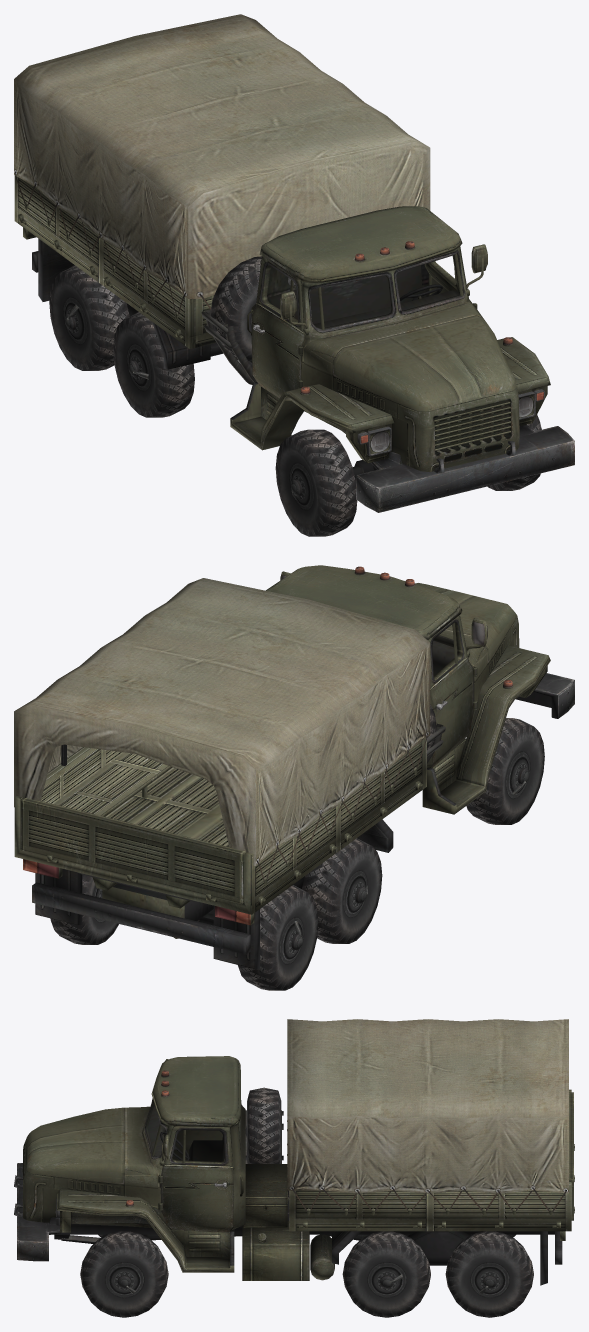
The model's file is ural_4320.glb.
3 views of the same model, one above another, from view 1: azimuth 30°, elevation 25°; view 2: azimuth 150°, elevation 25°; view 3: azimuth 270°, elevation 25° (orthographic). The views are drawn at different scales.
Visible parts, largest first — view 1: ural4320_0; view 2: ural4320_0; view 3: ural4320_0.
Part boxes in pixels (x1,y1,x2,y2): ural4320_0: [14, 14, 574, 536]; ural4320_0: [14, 565, 574, 990]; ural4320_0: [14, 1019, 574, 1317].
Size of the model in its own units: 3.06 by 3.27 by 7.57.
1 material, 1 textured.
